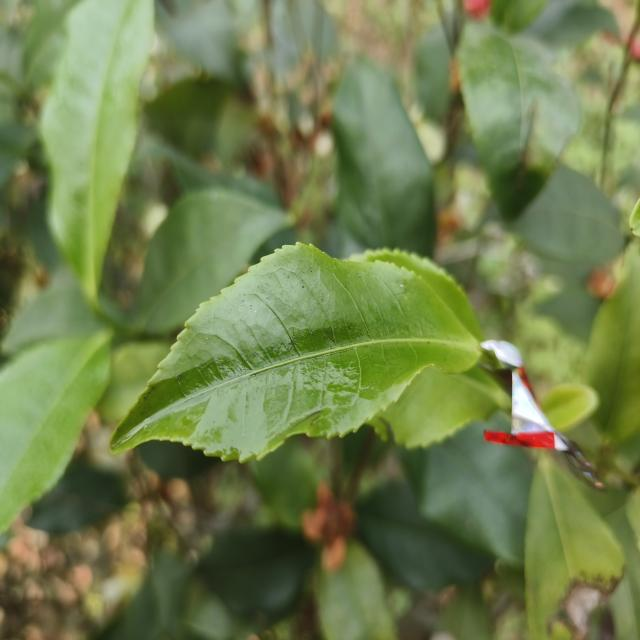Leaf: (111, 243, 480, 461), (41, 0, 154, 306), (457, 22, 580, 220), (0, 331, 110, 533), (135, 187, 287, 333), (332, 57, 436, 256), (402, 415, 532, 565), (525, 454, 624, 640), (357, 481, 492, 590), (352, 249, 483, 342), (508, 165, 623, 264), (375, 365, 508, 448), (197, 528, 314, 621), (587, 243, 640, 443), (144, 77, 257, 165), (3, 269, 106, 352), (317, 541, 396, 640), (156, 0, 241, 81), (23, 0, 78, 86), (536, 281, 600, 341), (415, 24, 452, 120), (540, 383, 599, 433)
